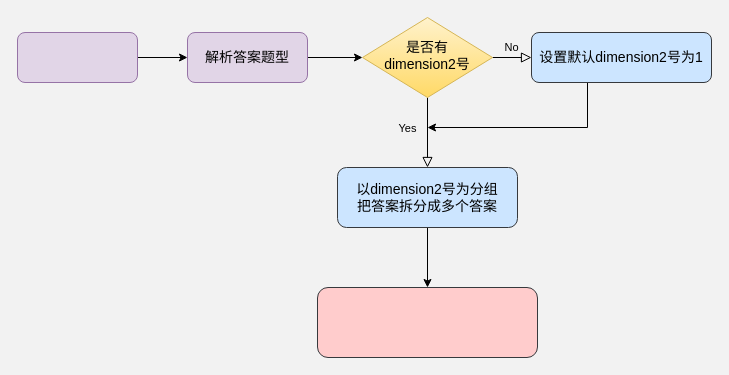
Some shapes in this 729 by 375 pixel diagram are drawn without their labels. The shapes that lost their labels are listed below. From the top down, each one's centre as x and y in pixels, then its label:
point 77,57: 归一化相关脚本
point 427,322: 按 dimension2号分组进行 归一化检查及归一化等 处理
